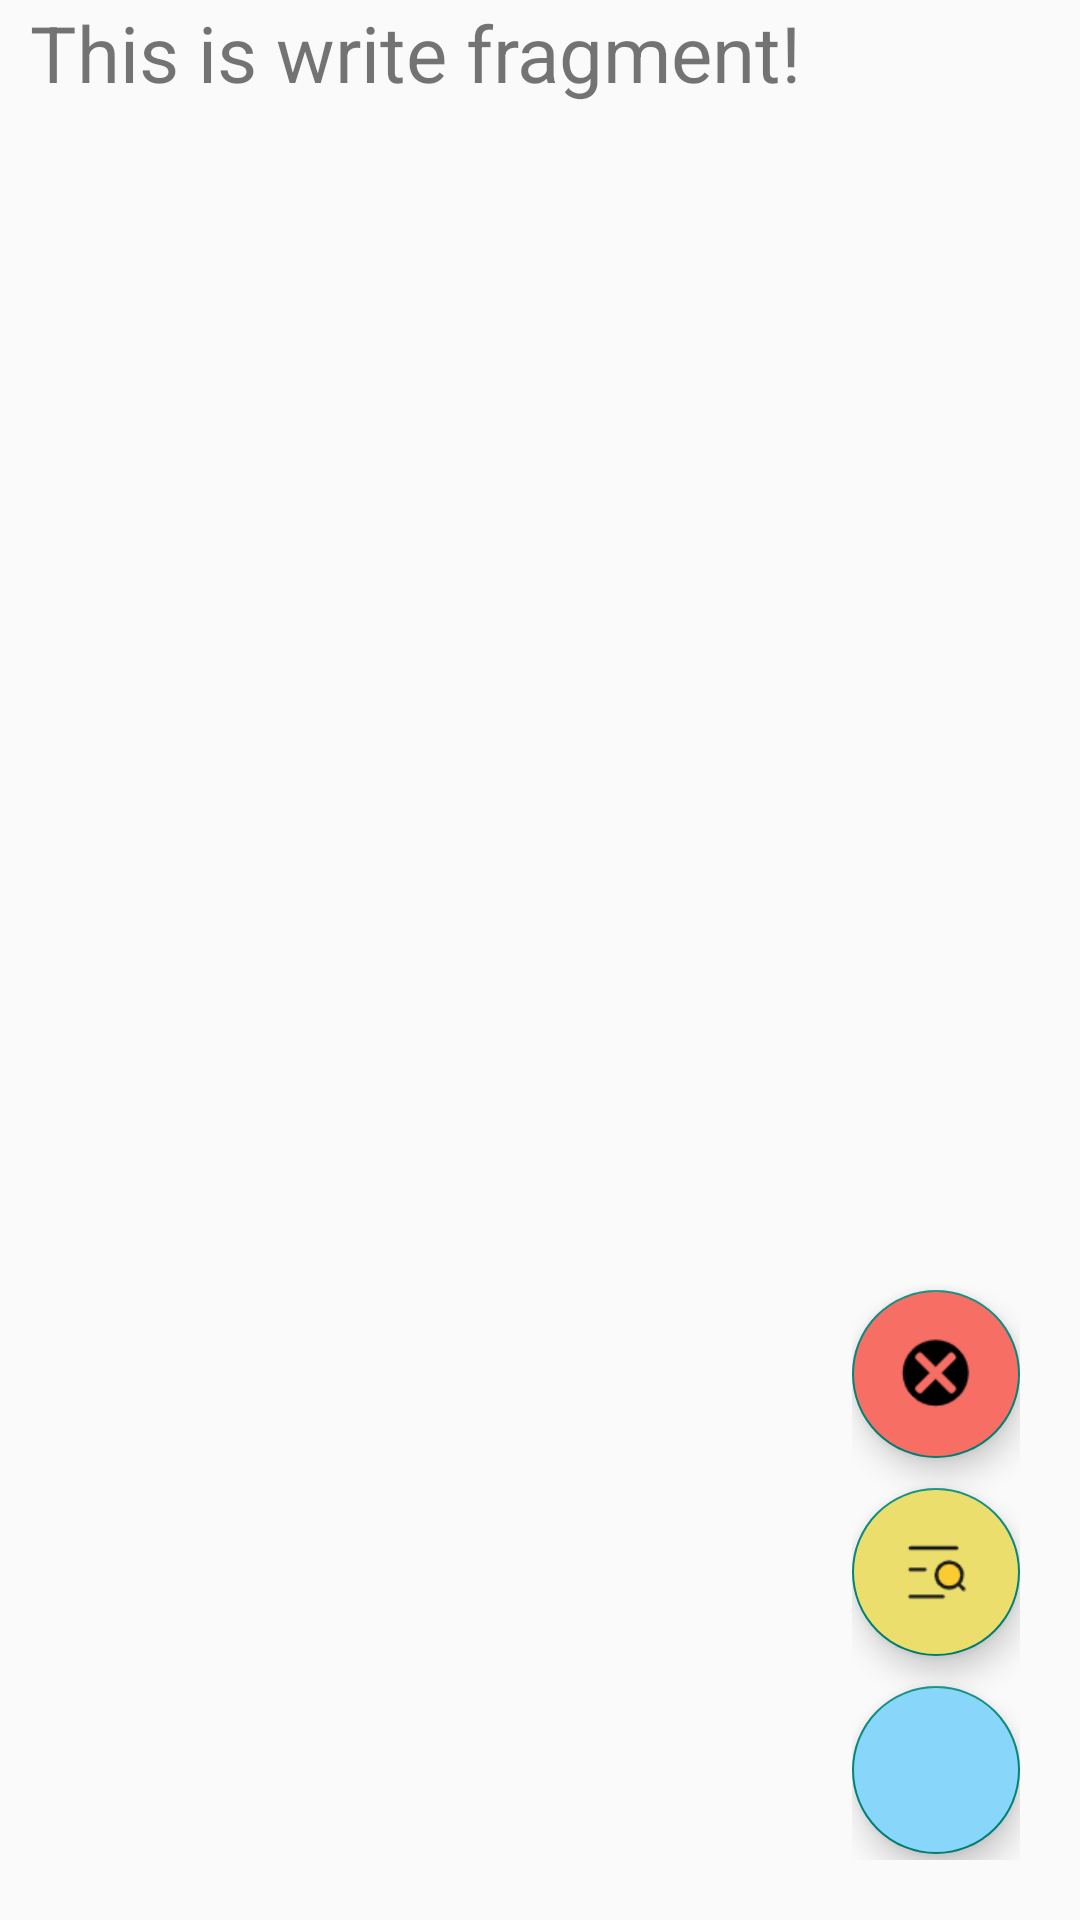

Where to tap for icons on this 1080px x 1920px app screen, as (x=x, y=y):
delete nall: (x=936, y=1374)
find out: (x=936, y=1572)
